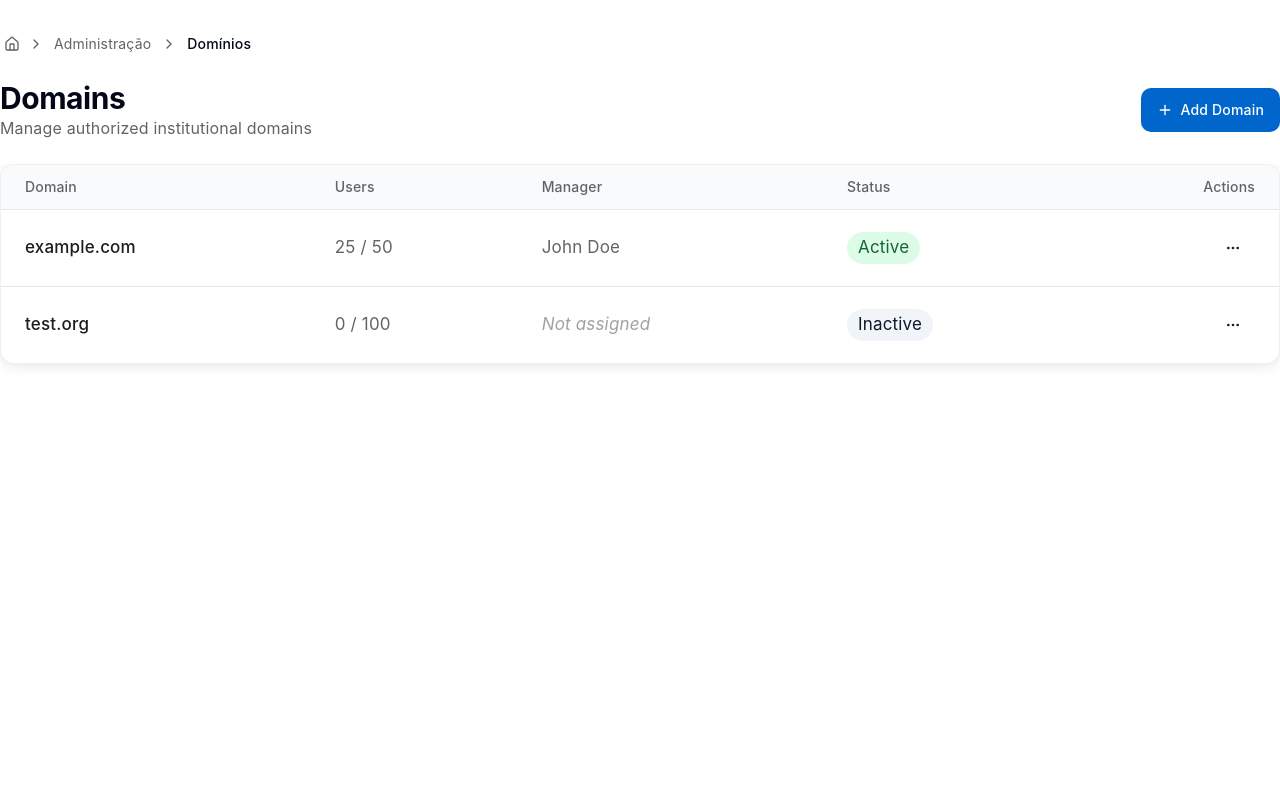
Test: DomainManagement › Create domain › should open create dialog on Add Domain click
This screenshot has width=1280, height=800.
What coordinates should you click on to do the following:
click the button "Add Domain"
I would click on:
 (1210, 110)
Its box is [1140,88,1279,132].
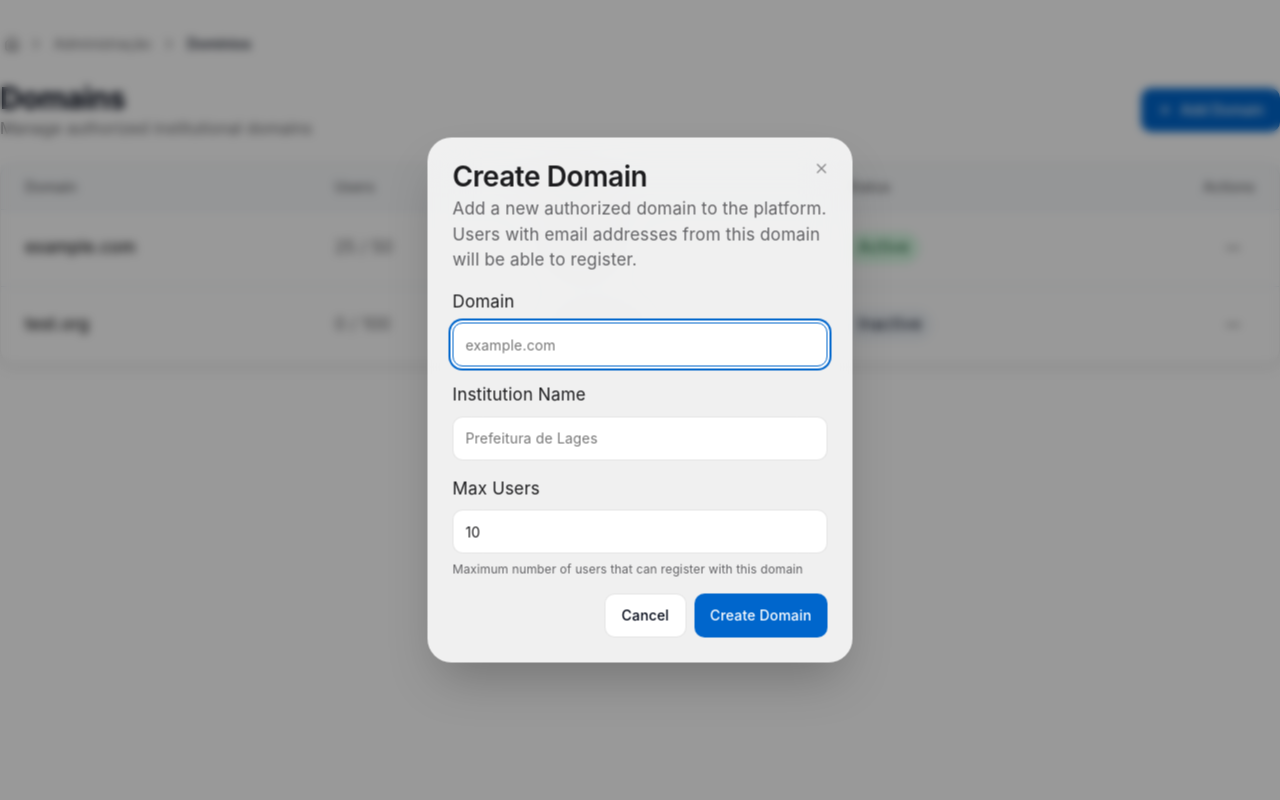
Check: the dialog is shown, box [428,138,852,662]
